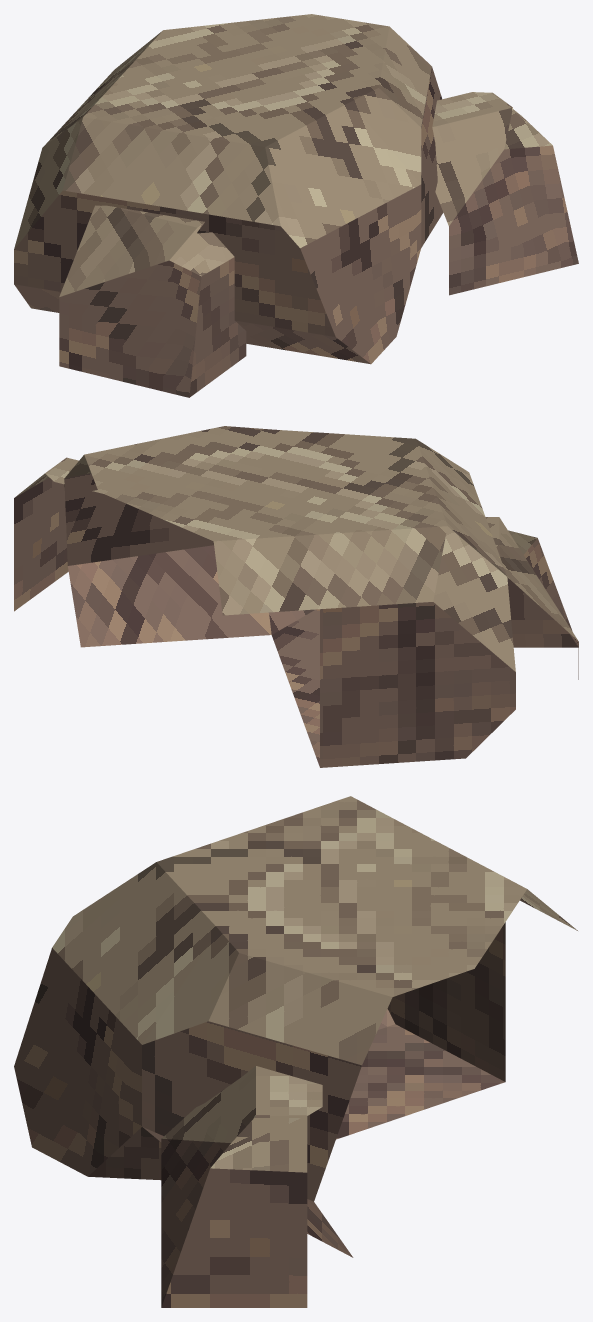
The model's file is S_M1SurfaceRockC.fbx.
3 renders of one model, top to bottom at view 1: azimuth 30°, elevation 25°; view 2: azimuth 150°, elevation 25°; view 3: azimuth 270°, elevation 25°, orthographic. The views are drawn at different scales.
Parts seen in each view (by area): view 1: S_M1SurfaceRockC, S_M1SurfaceRockC.001; view 2: S_M1SurfaceRockC, S_M1SurfaceRockC.001; view 3: S_M1SurfaceRockC, S_M1SurfaceRockC.001.
Part boxes in pixels (bbox=[...]): S_M1SurfaceRockC: bbox=[14, 14, 443, 397]; S_M1SurfaceRockC.001: bbox=[432, 92, 578, 295]; S_M1SurfaceRockC: bbox=[64, 426, 578, 767]; S_M1SurfaceRockC.001: bbox=[14, 457, 102, 611]; S_M1SurfaceRockC: bbox=[14, 796, 577, 1257]; S_M1SurfaceRockC.001: bbox=[161, 1066, 322, 1307].
Bounding box in the file's own units: 109 × 41.17 × 84.44.
2 materials, 2 textured.
